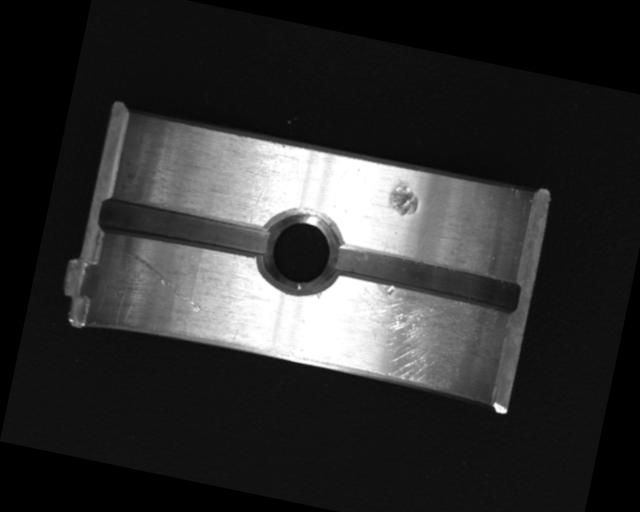bruise: (385, 178, 423, 221)
gap: (325, 240, 522, 317), (97, 194, 272, 263)
hole: (253, 202, 346, 299)
nick: (118, 247, 209, 314)
scratch: (312, 274, 504, 401)
